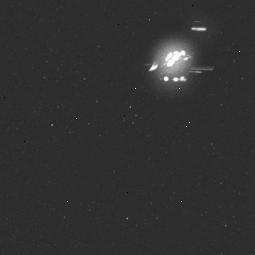earth_observation_sat_1: (133, 12, 222, 95)
